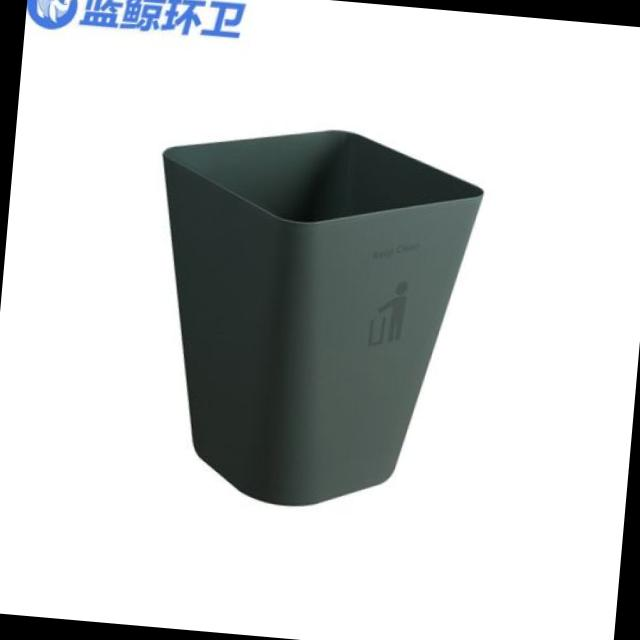dustbin: (126, 106, 496, 528)
